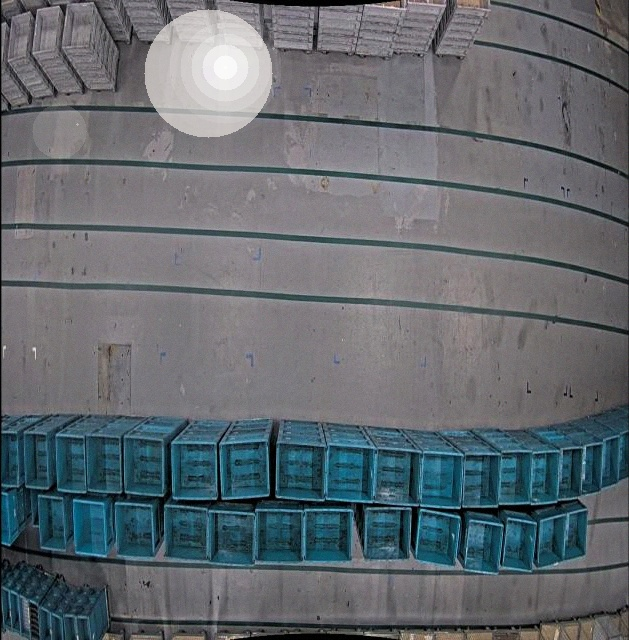Box: (274, 438, 326, 501), (220, 436, 270, 500), (171, 436, 219, 501), (255, 505, 304, 566), (304, 505, 353, 566), (163, 501, 210, 563), (363, 504, 412, 563), (325, 442, 372, 503), (211, 507, 257, 567), (123, 434, 166, 498), (114, 499, 158, 561), (419, 449, 464, 509), (415, 508, 459, 569), (373, 445, 414, 506), (465, 516, 504, 575), (73, 497, 108, 557), (501, 515, 537, 572), (56, 430, 88, 491), (462, 451, 495, 508), (37, 493, 68, 552), (87, 432, 117, 492), (536, 513, 566, 568), (529, 447, 557, 504), (25, 429, 52, 488), (498, 448, 525, 505), (564, 506, 588, 564), (558, 445, 582, 500), (581, 439, 603, 493), (1, 429, 21, 487), (2, 488, 22, 545), (602, 434, 619, 490), (1, 582, 12, 635), (618, 429, 629, 482), (19, 593, 30, 640), (456, 0, 493, 11), (78, 615, 94, 640), (40, 605, 51, 640), (30, 598, 39, 640), (64, 612, 77, 640), (12, 589, 19, 637), (52, 612, 63, 640)
